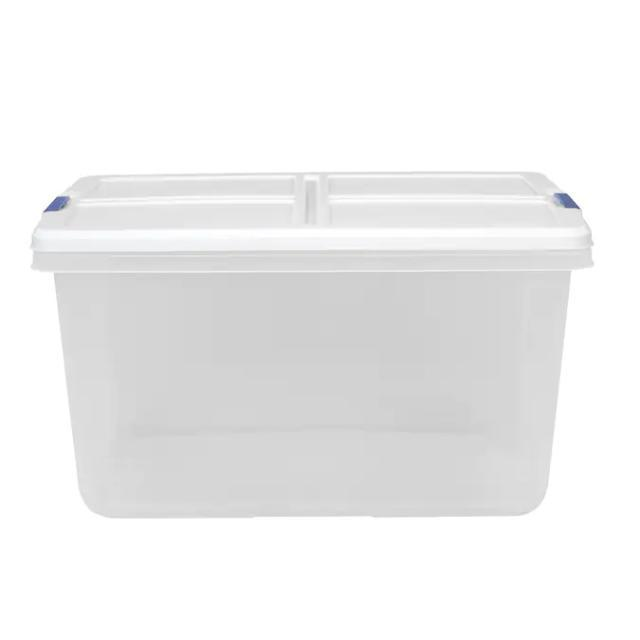plastic: (32, 171, 592, 517)
